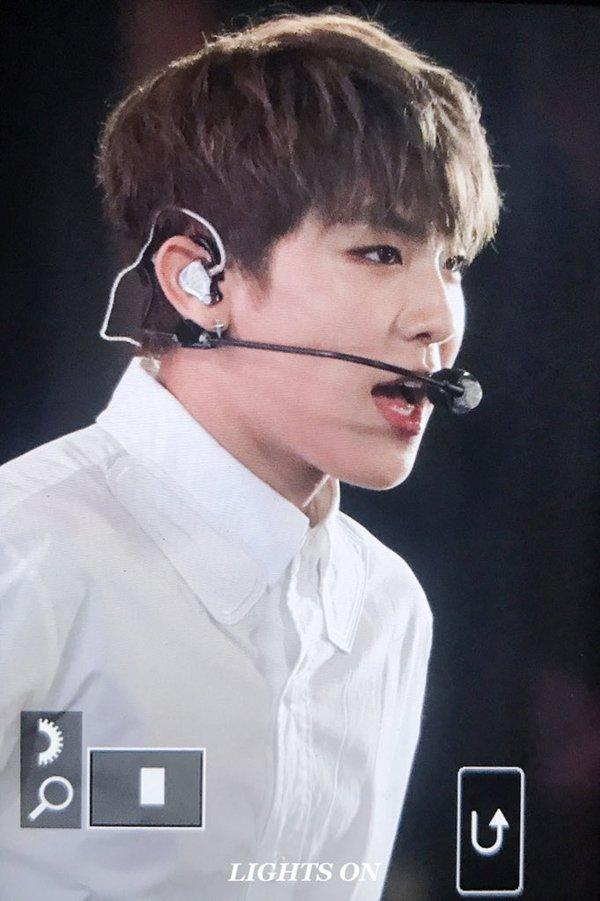earphone: (173, 257, 225, 308)
